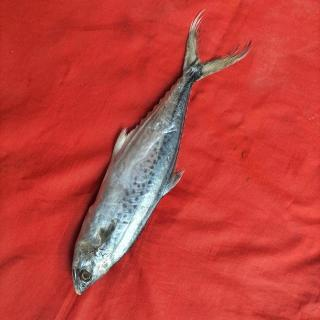Ikan: (62, 4, 256, 302)
